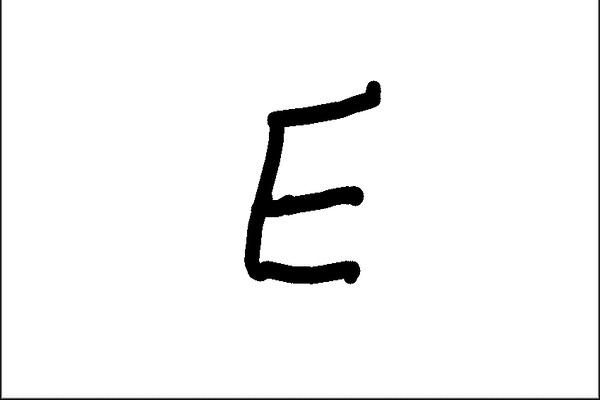E: (238, 75, 389, 294)
